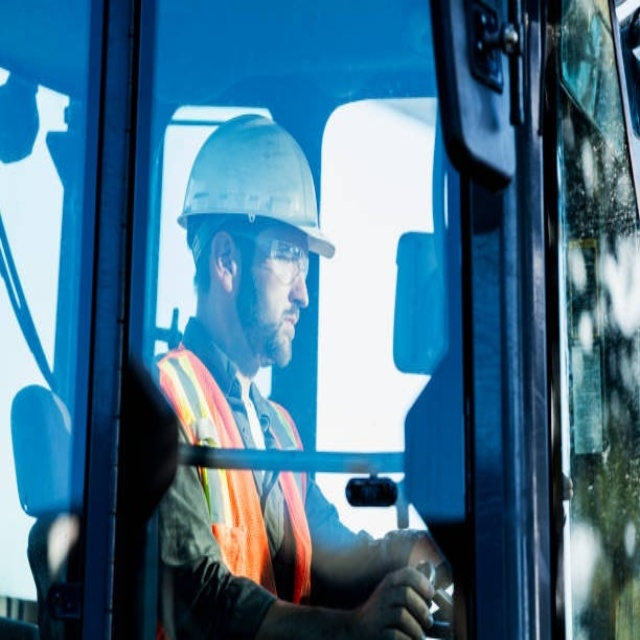Gafas: (212, 230, 315, 283)
Sin_guantes: (355, 563, 441, 640)
Sin_mascara: (261, 303, 305, 362)
